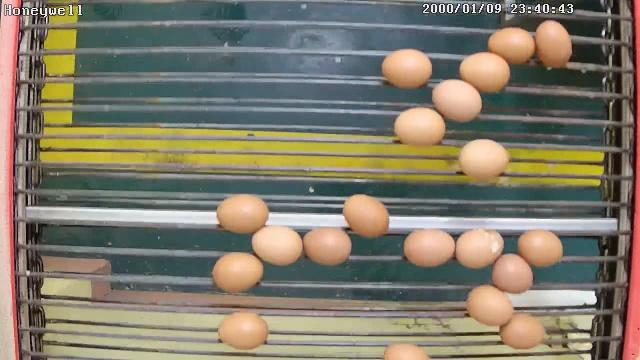egg: (430, 77, 483, 124), (250, 222, 304, 268), (215, 192, 271, 236), (457, 50, 511, 94), (210, 250, 264, 294), (342, 192, 391, 240), (454, 226, 504, 272), (381, 46, 433, 90), (302, 224, 354, 268), (402, 226, 456, 268), (458, 138, 510, 181), (393, 106, 446, 148), (217, 309, 270, 351), (486, 25, 536, 69), (467, 282, 514, 328), (533, 19, 574, 70), (516, 226, 564, 268), (490, 250, 534, 294), (498, 313, 546, 350)
